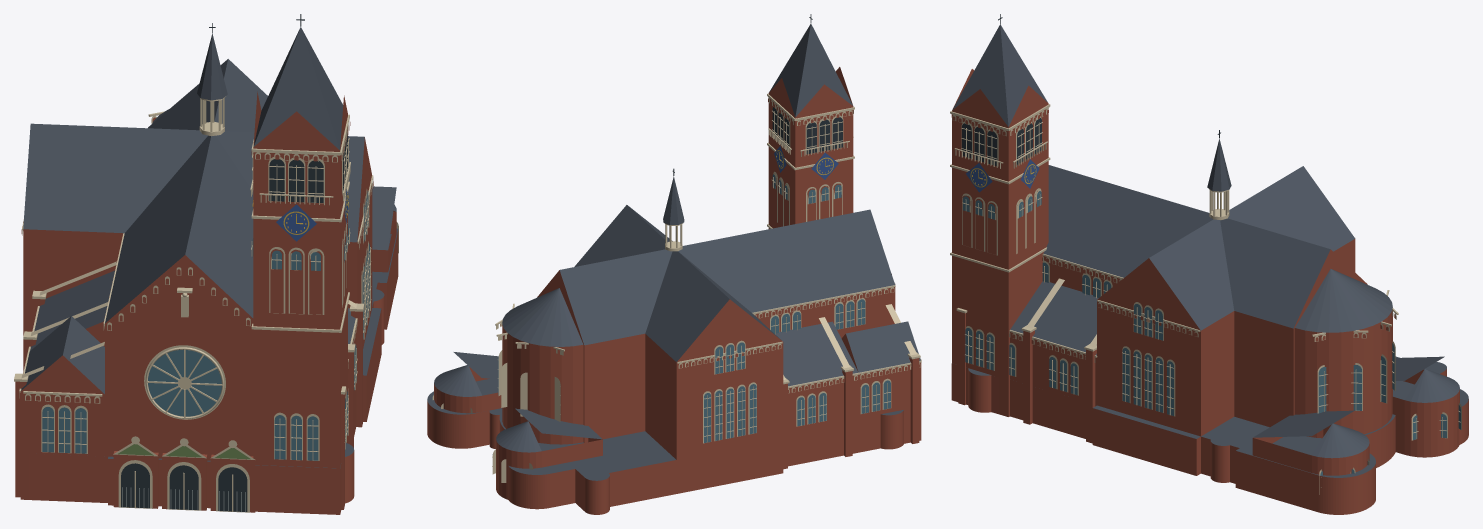
The model's file is boomkerk.glb.
3 renders of one model, left to right at view 1: azimuth 30°, elevation 25°; view 2: azimuth 150°, elevation 25°; view 3: azimuth 270°, elevation 25°, orthographic. The views are drawn at different scales.
Visible parts, largest first — view 1: boomkerk; view 2: boomkerk; view 3: boomkerk.
Part boxes in pixels (x1=…): boomkerk: x1=14, y1=14, x2=398, y2=514; boomkerk: x1=427, y1=14, x2=921, y2=514; boomkerk: x1=950, y1=14, x2=1468, y2=514.
Size of the model in its own units: 49.36 by 43.42 by 53.34.
